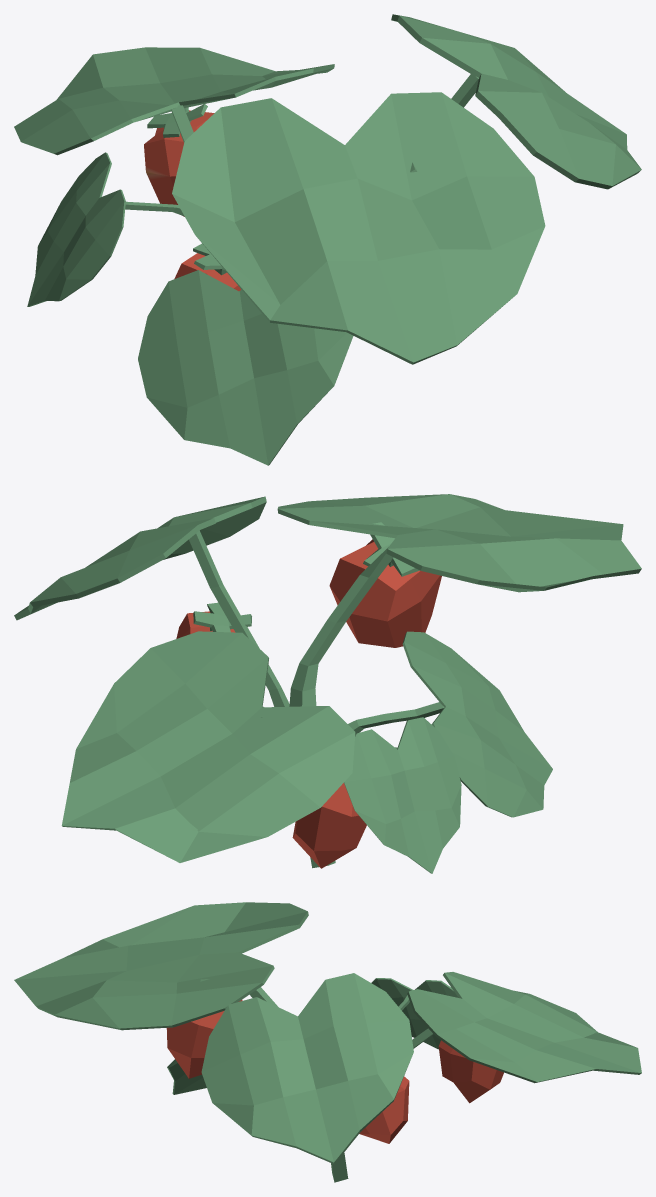
The model's file is Strawberry.fbx.
3 renders of one model, top to bottom at view 1: azimuth 30°, elevation 25°; view 2: azimuth 150°, elevation 25°; view 3: azimuth 270°, elevation 25°, orthographic. The views are drawn at different scales.
Parts seen in each view (by area): view 1: leaf, leaf3, leaf4, leaf1, leaf2, stawberry4, stawberry3; view 2: leaf4, leaf, leaf3, leaf2, leaf1, stawberry1, stawberry3, stawberry2; view 3: leaf1, leaf, leaf4, stawberry1, stawberry4, leaf2, stawberry3, leaf3.
Boxes of the visible parts, x1,y1,x2,y2 form: leaf: (172,92,545,364); leaf3: (138,270,353,465); leaf4: (14,47,334,155); leaf1: (391,14,641,189); leaf2: (27,152,184,306); stawberry4: (144,104,214,216); stawberry3: (174,243,241,291); leaf4: (61,631,355,862); leaf: (277,494,641,706); leaf3: (348,631,552,817); leaf2: (344,717,461,873); leaf1: (14,496,335,868); stawberry1: (329,522,441,647); stawberry3: (292,783,366,868); stawberry2: (176,602,251,638); leaf1: (201,973,413,1182); leaf: (14,902,308,1030); leaf4: (407,972,641,1083); stawberry1: (166,979,242,1078); stawberry4: (438,1040,503,1103); leaf2: (371,978,458,1049); stawberry3: (359,1076,409,1143); leaf3: (167,1059,206,1094).
Size of the model in its own units: 126 by 79.87 by 181.
